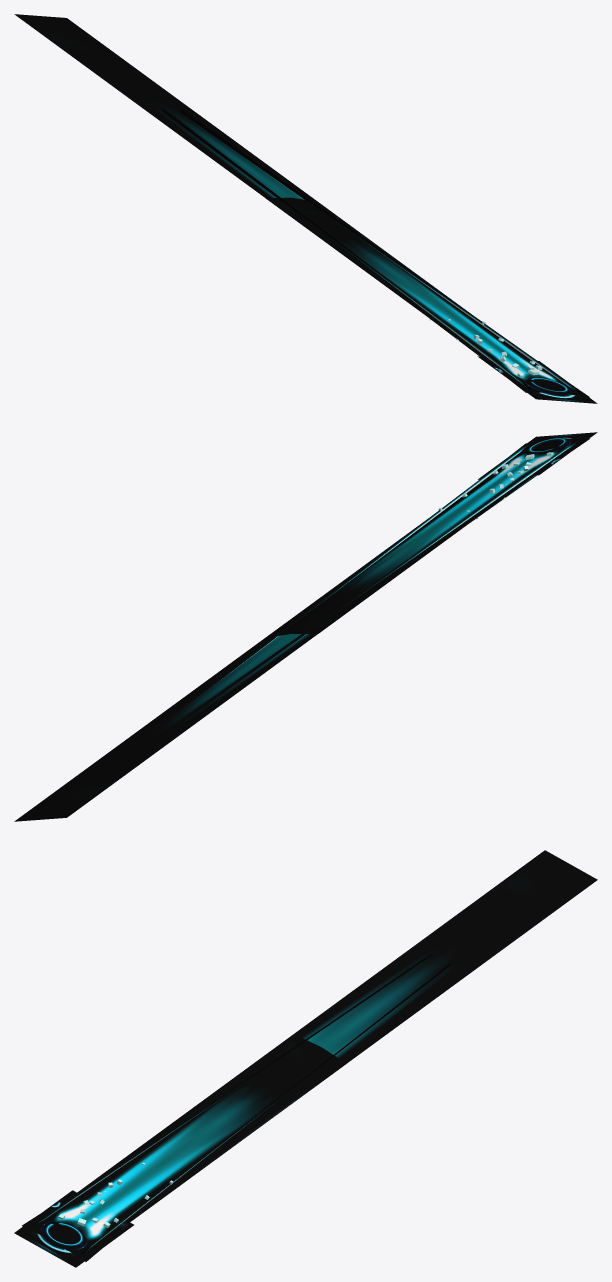
The model's file is Tron_Disc.fbx.
3 views of the same model, one above another, from view 1: azimuth 30°, elevation 25°; view 2: azimuth 150°, elevation 25°; view 3: azimuth 330°, elevation 25° (orthographic).
Visible parts, largest first — view 1: Trail_Mid, Trail_Top, Trails_Side; view 2: Trail_Mid, Trail_Top, Trails_Side; view 3: Trail_Mid, Trail_Top, Trails_Side, Disc2, DiscGlow.
Boxes of the visible parts, x1,y1,x2,y2 form: Trail_Mid: [14, 14, 590, 401]; Trail_Top: [266, 197, 589, 397]; Trails_Side: [162, 108, 579, 393]; Trail_Mid: [14, 434, 590, 821]; Trail_Top: [267, 438, 589, 637]; Trails_Side: [161, 439, 578, 724]; Trail_Mid: [21, 850, 597, 1262]; Trail_Top: [22, 1034, 345, 1261]; Trails_Side: [33, 953, 450, 1254]; Disc2: [37, 1222, 86, 1253]; DiscGlow: [14, 1190, 133, 1267].
Size of the model in its own units: 14.77 by 4.71 by 208.
